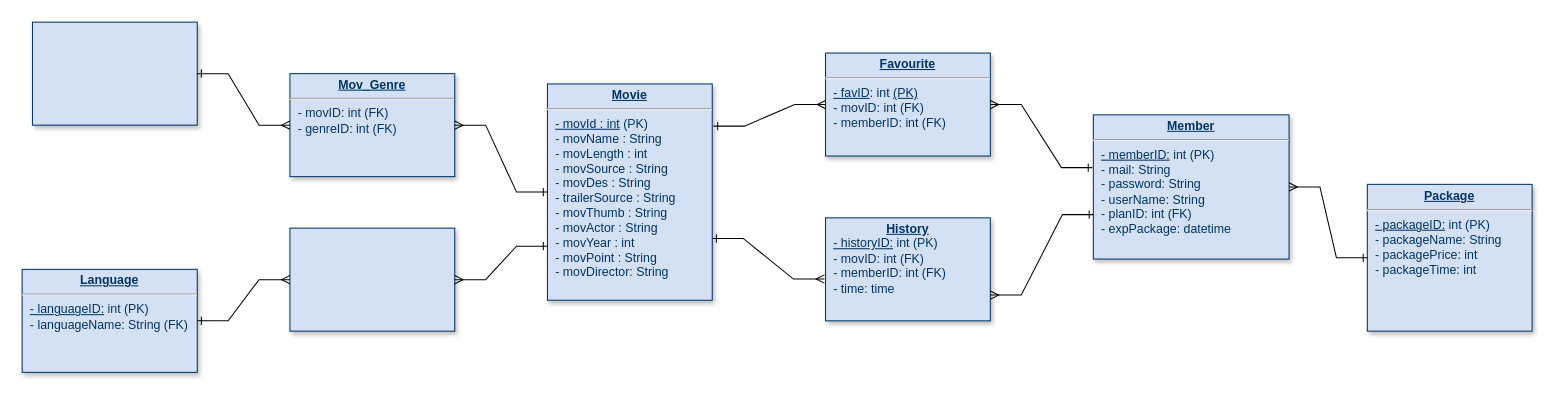
Some shapes in this 1556 by 398 pixel diagram are drawn without their labels. The shapes that lost their labels are listed below. From the top down, each one's centre as x and y in pixels, then its label:
At (115,74): "Genre - genreID: int (PK) - genreName: String (FK)".
At (373,280): "Mov_Language - movID: int (FK) - languageID: int (FK)".
